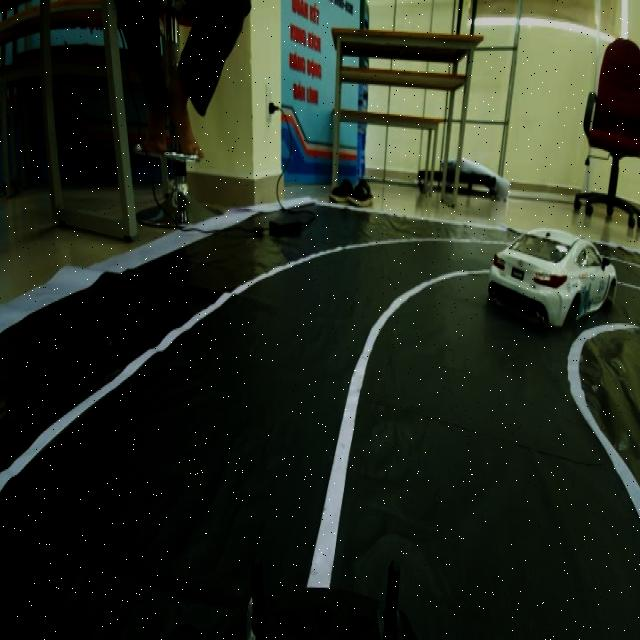car: (488, 198, 619, 337)
